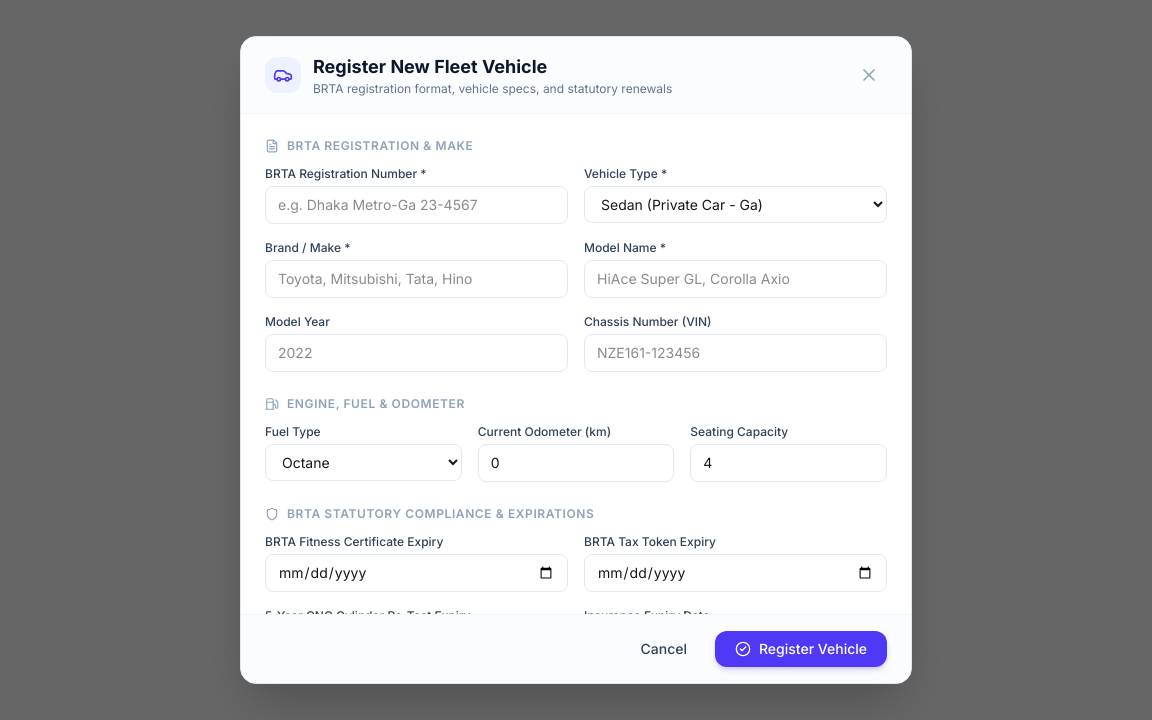
Test: VehicleFormModal Component & BRTA Registration Audit › validates required BRTA registration number and brand make
Expected: the heading "Register New Fleet Vehicle" is shown, left=313, top=56, right=547, bottom=77
Submit with empty inputs
Click the button "Register Vehicle": click(801, 649) left=715, top=631, right=887, bottom=667
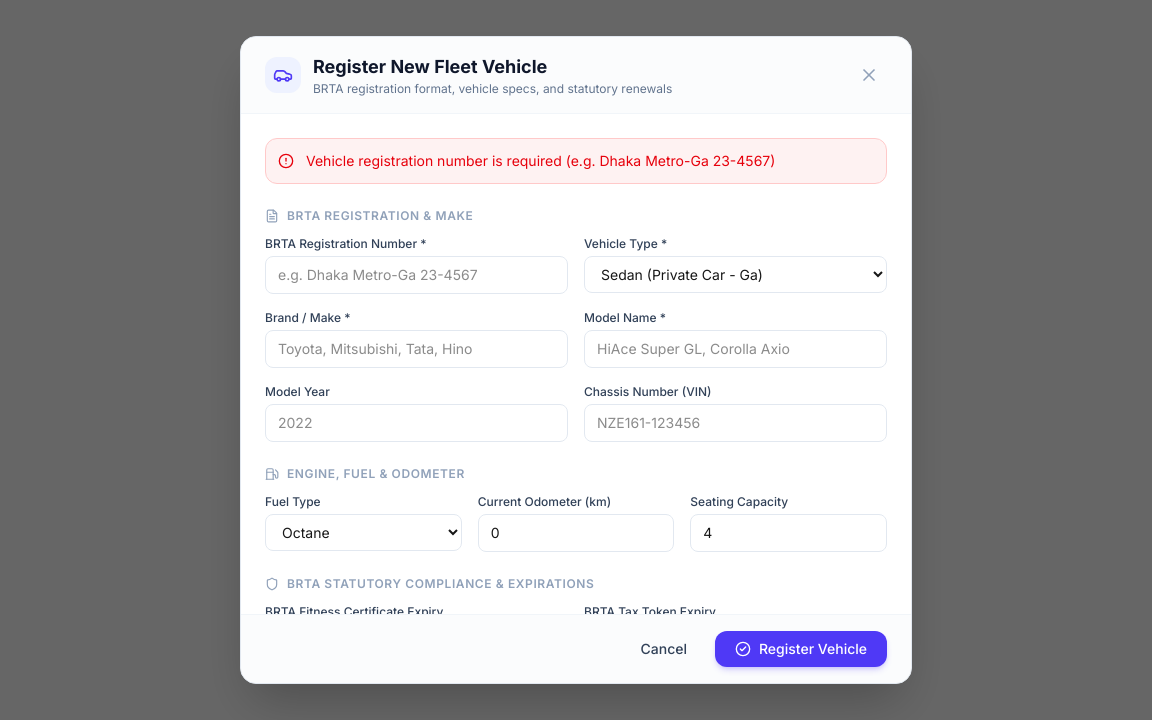
Result: the text "Vehicle registration number is required" is shown at left=306, top=152, right=775, bottom=169
